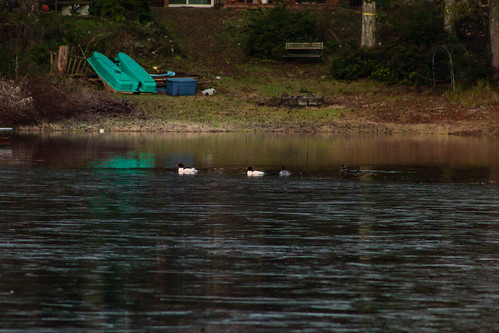animal: (172, 157, 200, 180), (236, 161, 269, 180), (272, 164, 295, 180)
bench: (275, 34, 327, 62)
river: (2, 134, 499, 333)
vegetation: (331, 23, 499, 108), (1, 1, 161, 77)
